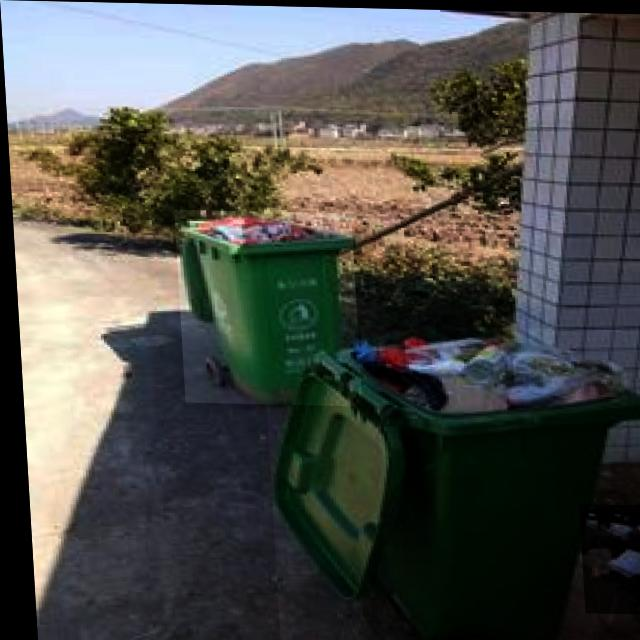garbage: (573, 502, 640, 612)
overflow: (258, 321, 640, 640), (172, 209, 357, 405)
